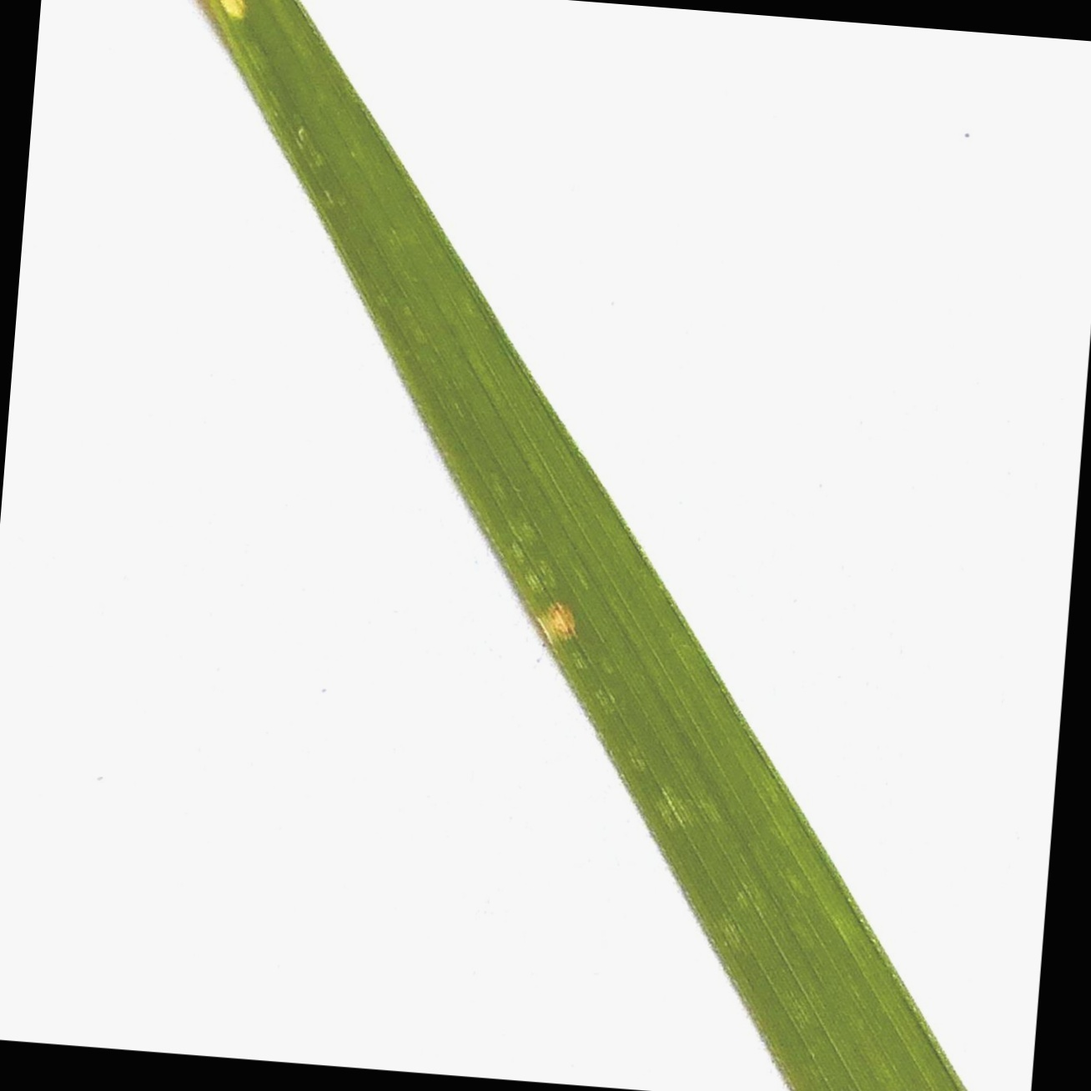Brown_Spot: (518, 568, 594, 655)
